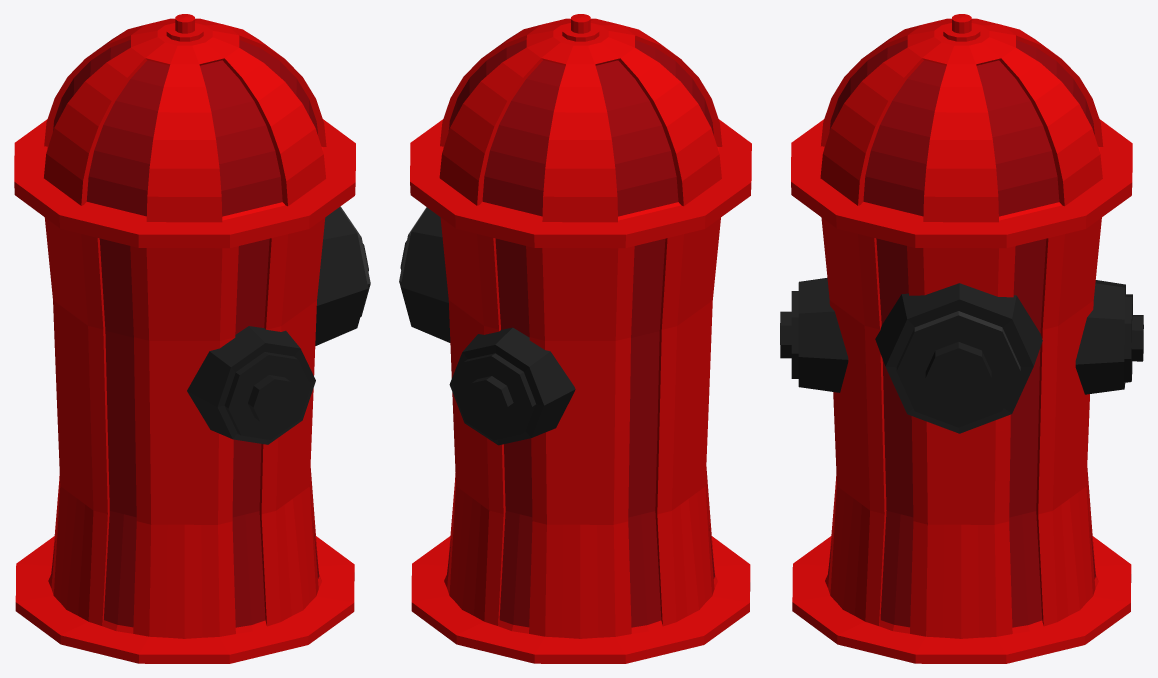
File: HIDRANTE.fbx
3 renders of one model, left to right at view 1: azimuth 30°, elevation 25°; view 2: azimuth 150°, elevation 25°; view 3: azimuth 270°, elevation 25°, orthographic.
Parts seen in each view (by area): view 1: Cylinder, Circle.002, Circle; view 2: Cylinder, Circle.001, Circle; view 3: Cylinder, Circle, Circle.002, Circle.001.
Boxes of the visible parts, x1,y1,x2,y2 form: Cylinder: [14, 14, 355, 663]; Circle.002: [187, 326, 315, 444]; Circle: [315, 206, 370, 345]; Cylinder: [410, 14, 751, 663]; Circle.001: [449, 327, 575, 445]; Circle: [399, 207, 450, 342]; Cylinder: [791, 14, 1132, 663]; Circle: [875, 283, 1042, 433]; Circle.002: [780, 278, 848, 392]; Circle.001: [1075, 280, 1143, 394].
Size of the model in its own units: 273 by 477 by 274.
